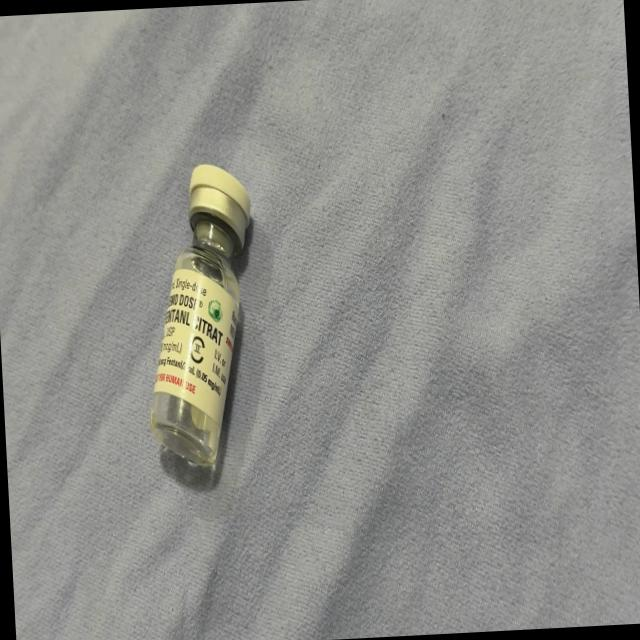fentanl_citrat: (138, 168, 263, 471)
